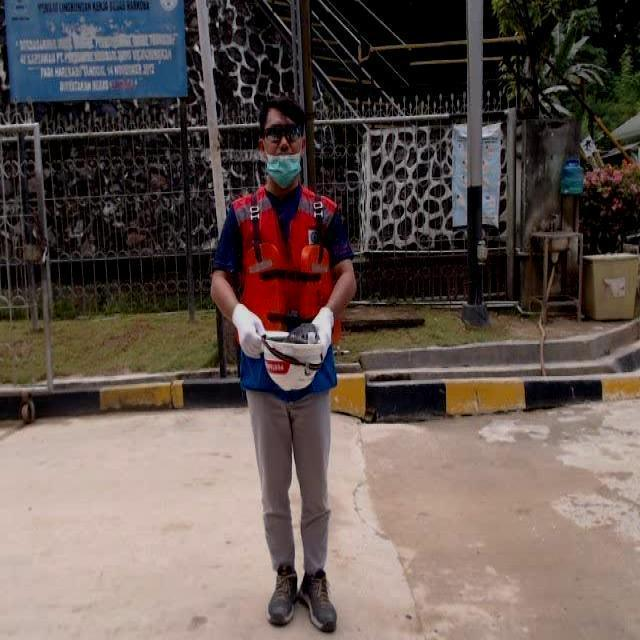vest: (231, 186, 340, 393)
